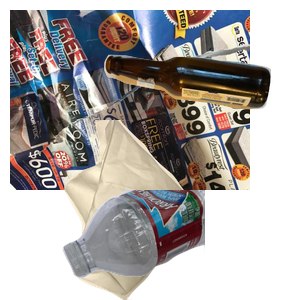glass: (101, 52, 300, 154)
paper: (10, 10, 250, 190)
plastic: (60, 190, 300, 280)
trash: (62, 120, 251, 300)
